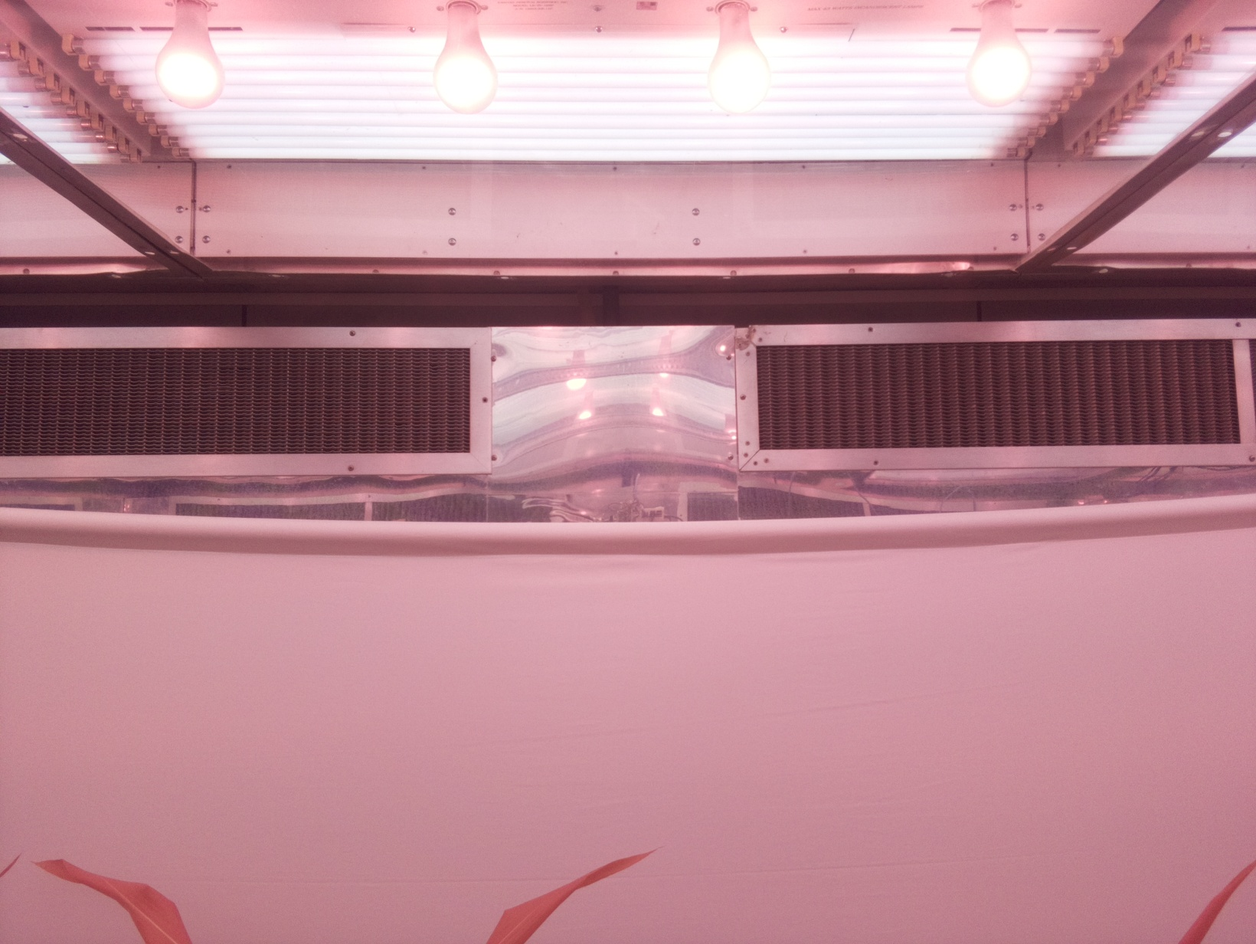maize: (0, 853, 194, 944), (486, 846, 663, 944), (1178, 857, 1256, 944)
